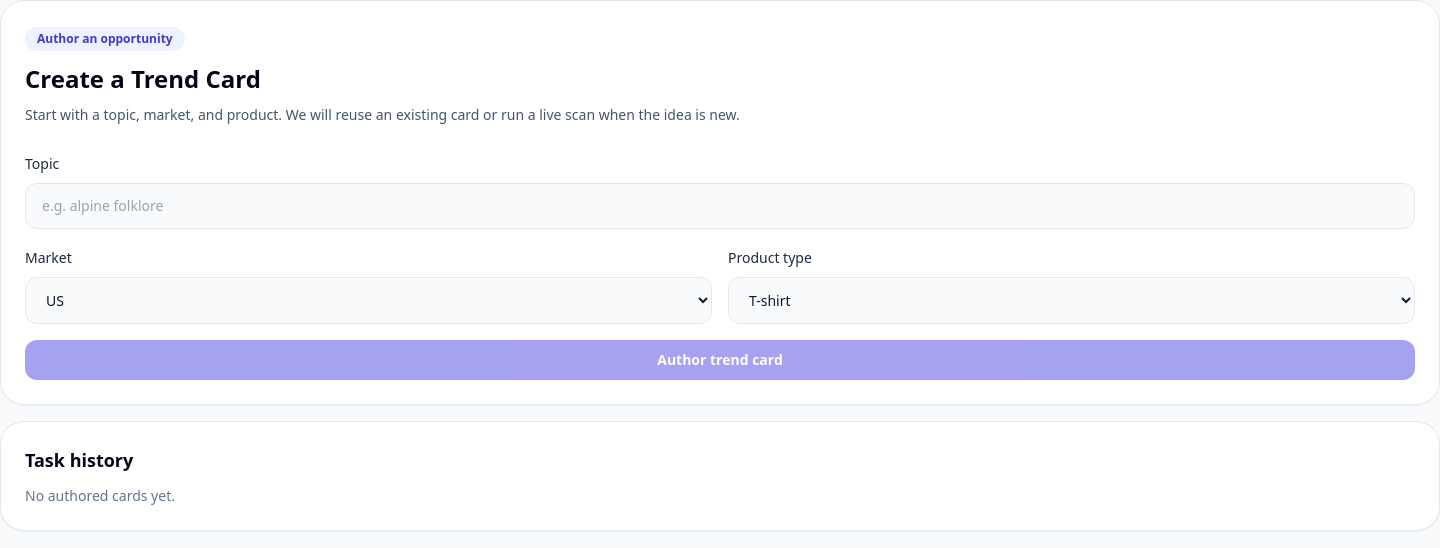
Test: SeedAuthoringPanel › does not fetch on mount and disables submission until a topic is entered
This screenshot has width=1440, height=548.
Expected: the button "Author trend card" is disabled, [25,340,1415,380]
Type "  alpine folklore  " into the field labelled "Topic" at coordinates (720, 206), box [25,183,1415,229]
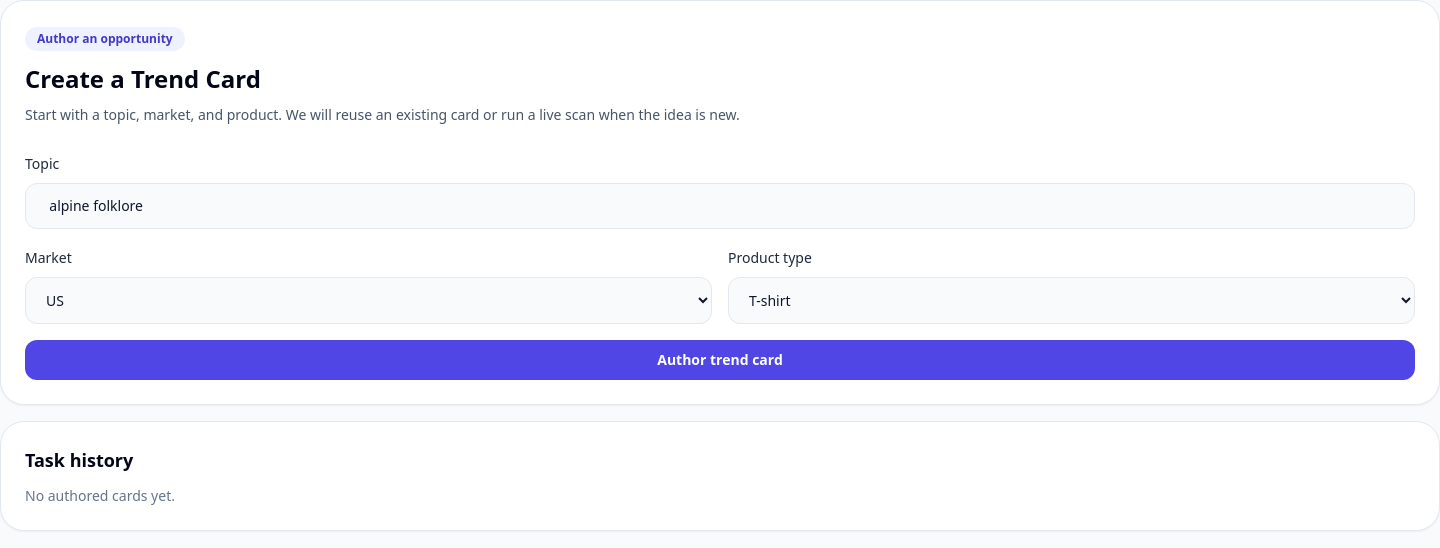
Result: the button "Author trend card" is enabled at [25,340,1415,380]
